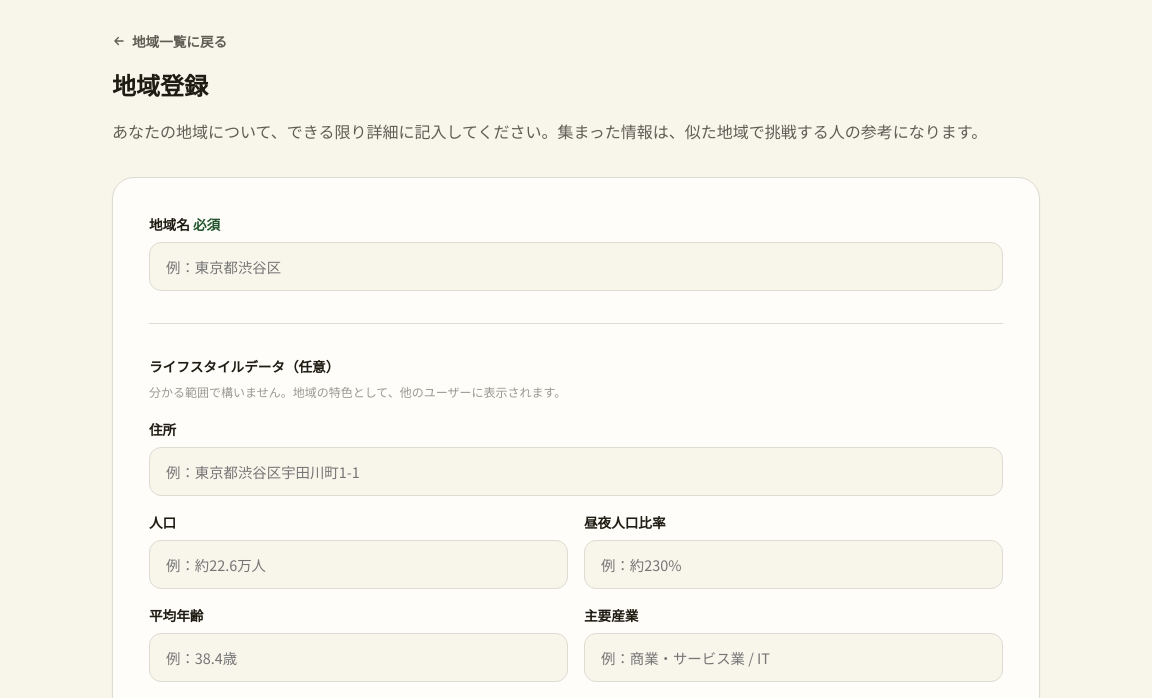
AreaFormView › 地域名（必須）が未入力だと送信ボタンは非活性。入力すると活性化する（他は任意項目）
The width and height of the screenshot is (1152, 698).
Type "東京都渋谷区" into the field with id "name" at (576, 267), box [149, 242, 1003, 291]
(page scrolled)
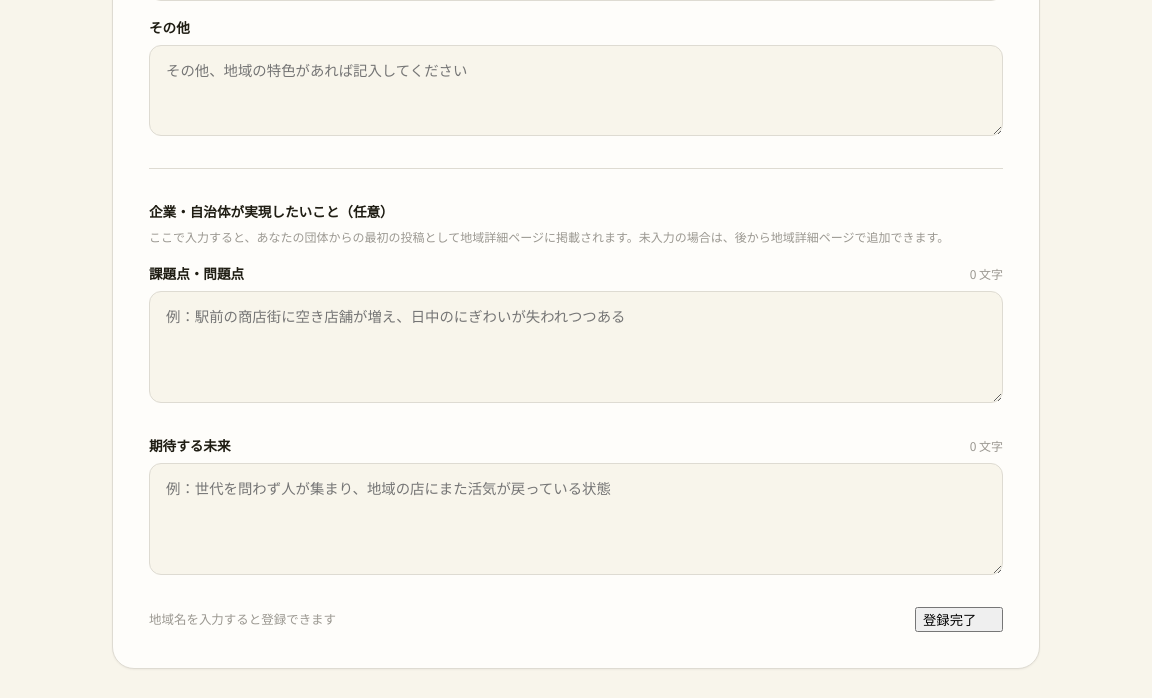
Now the submit button is enabled, box [915, 607, 1003, 632]
